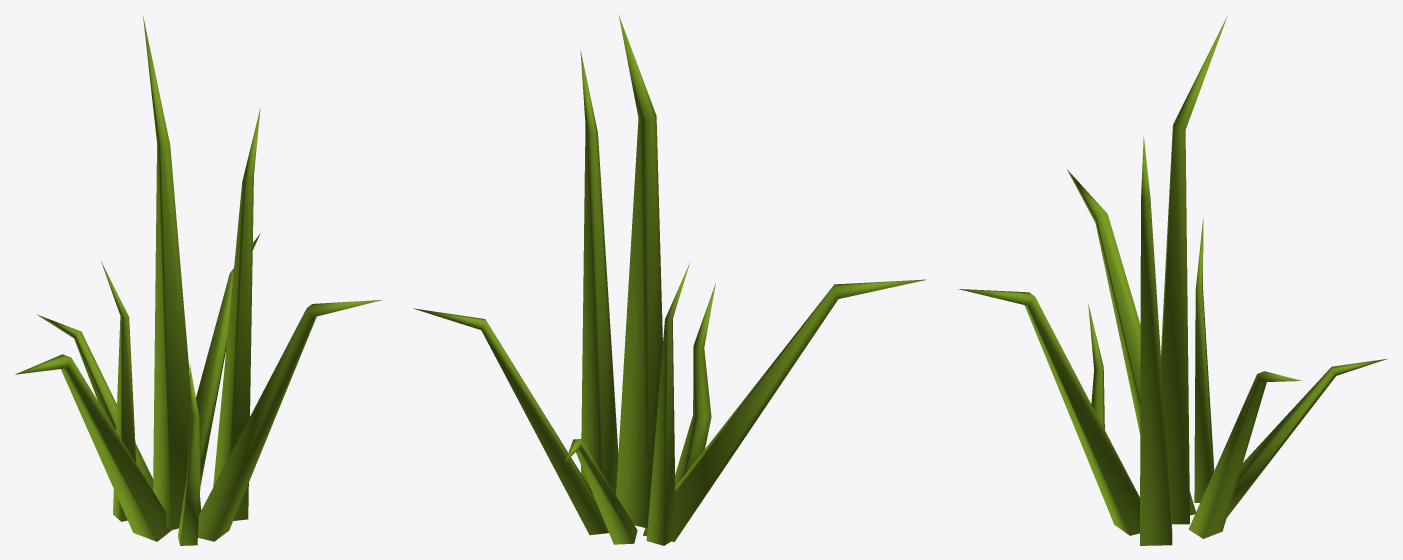
The model's file is Grass_01.fbx.
3 renders of one model, left to right at view 1: azimuth 30°, elevation 25°; view 2: azimuth 150°, elevation 25°; view 3: azimuth 270°, elevation 25°, orthographic. The views are drawn at different scales.
Visible parts, largest first — view 1: Grass_01; view 2: Grass_01; view 3: Grass_01.
Part boxes in pixels (x1,y1,x2,y2): Grass_01: (15,16,383,545); Grass_01: (413,15,928,545); Grass_01: (958,15,1387,545).
Size of the model in its own units: 0.2889 by 0.2913 by 0.3791.
